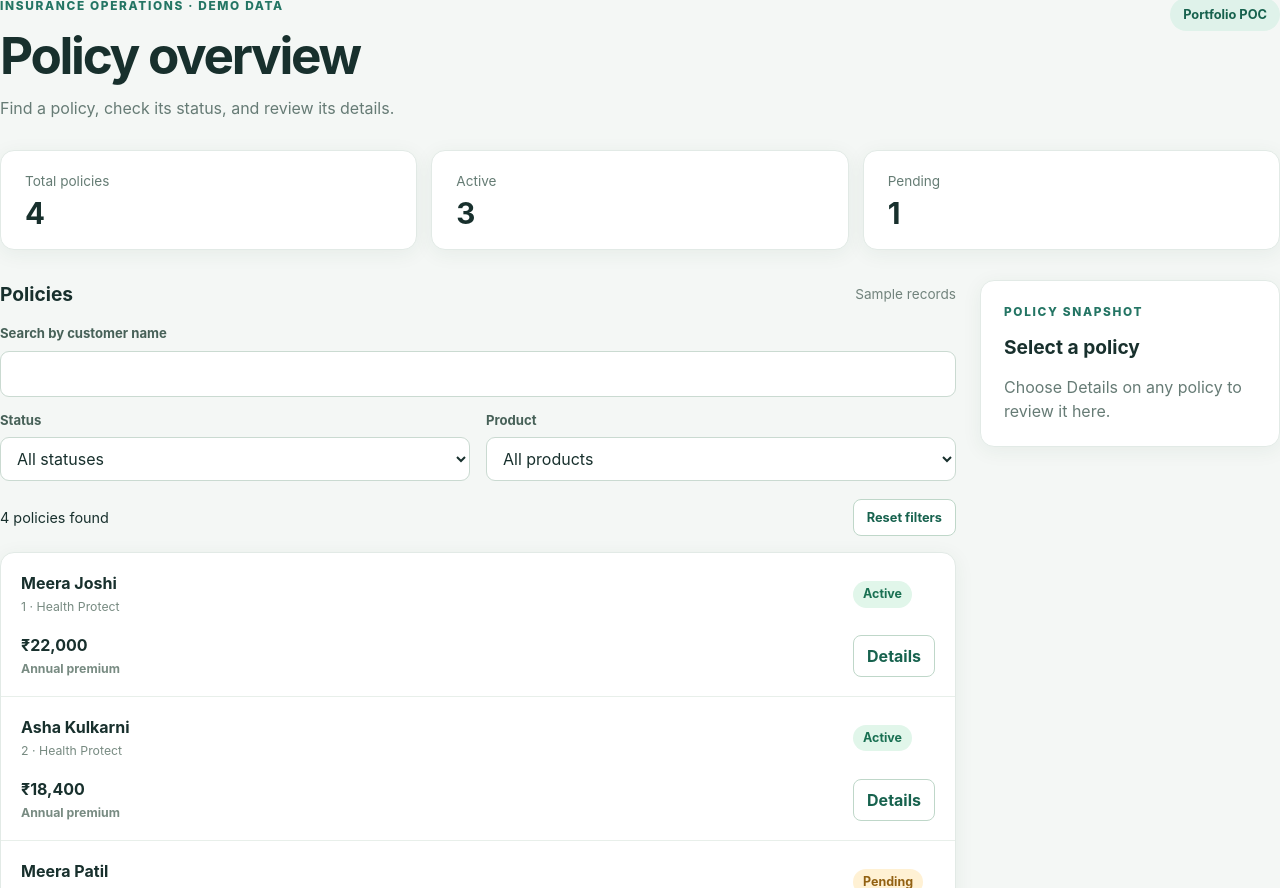
it: combines product, status and trimmed search; resets filters without changing portfolio totals
The width and height of the screenshot is (1280, 888).
Check: the text "Meera Joshi" is shown, box 21,573 -> 117,593
Select "Health Protect" in the dropdown labelled "Product" at (721, 459), box 486,437 -> 956,481
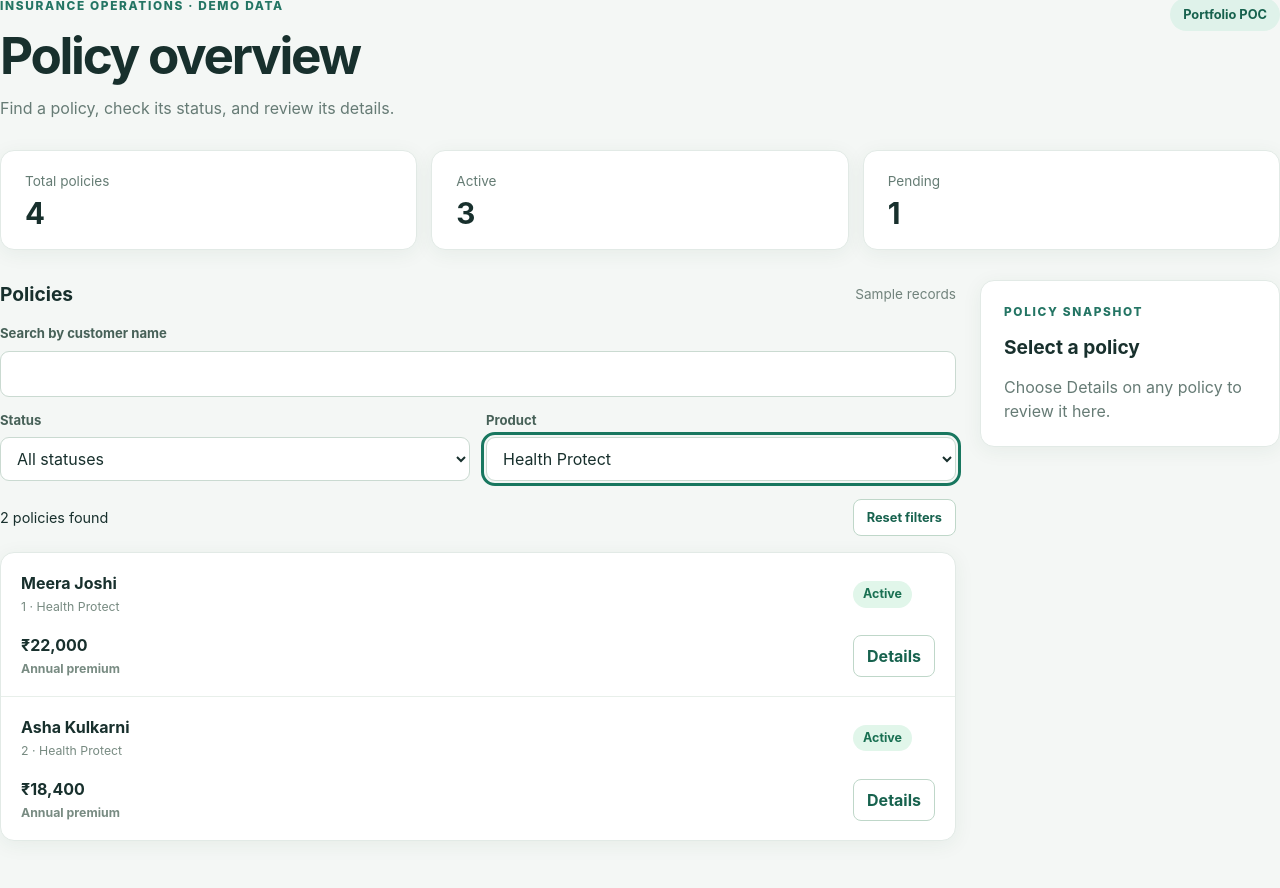
Select "Active" in the dropdown labelled "Status" at (235, 459), box 0,437 -> 470,481
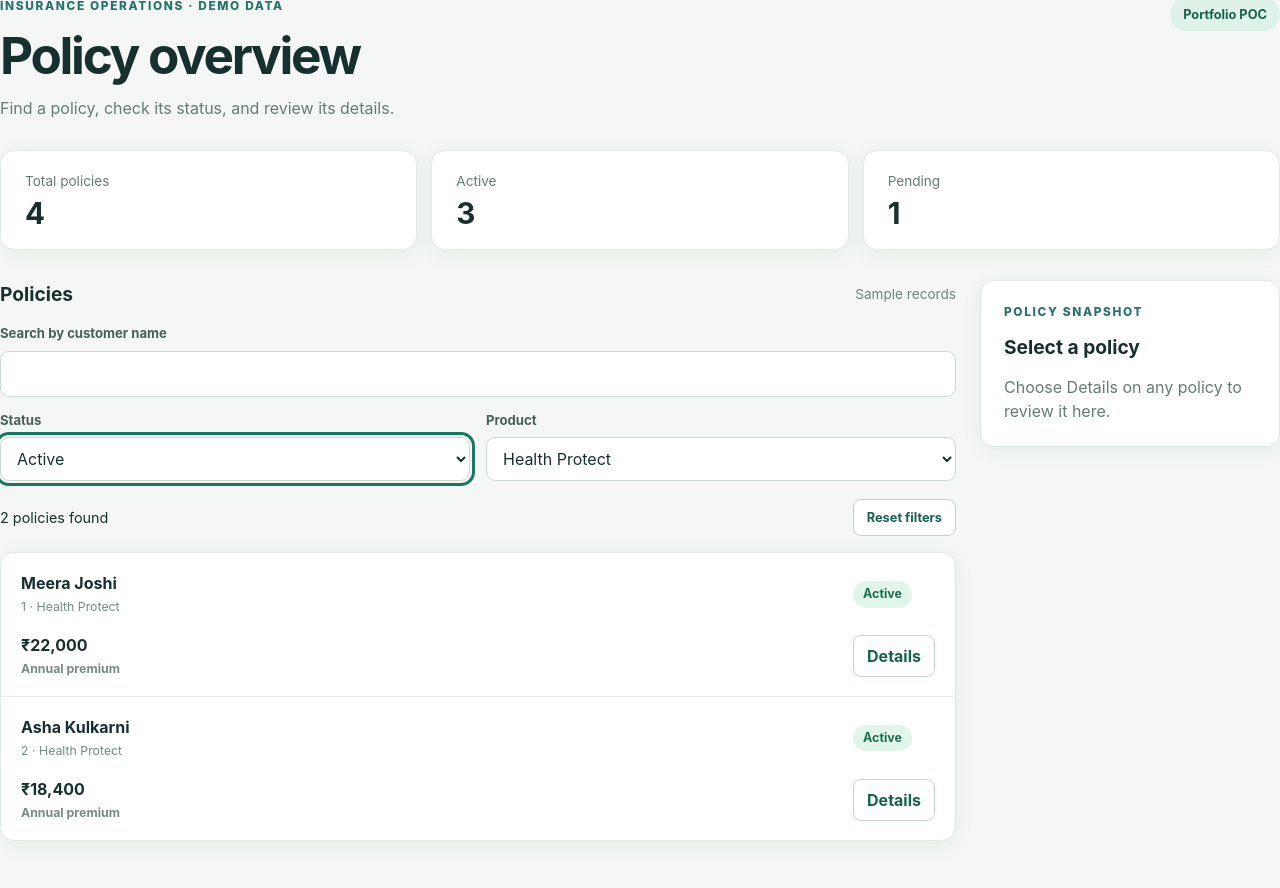
Type "  mEERA  " into the search field at (478, 374), box 0,350 -> 956,396
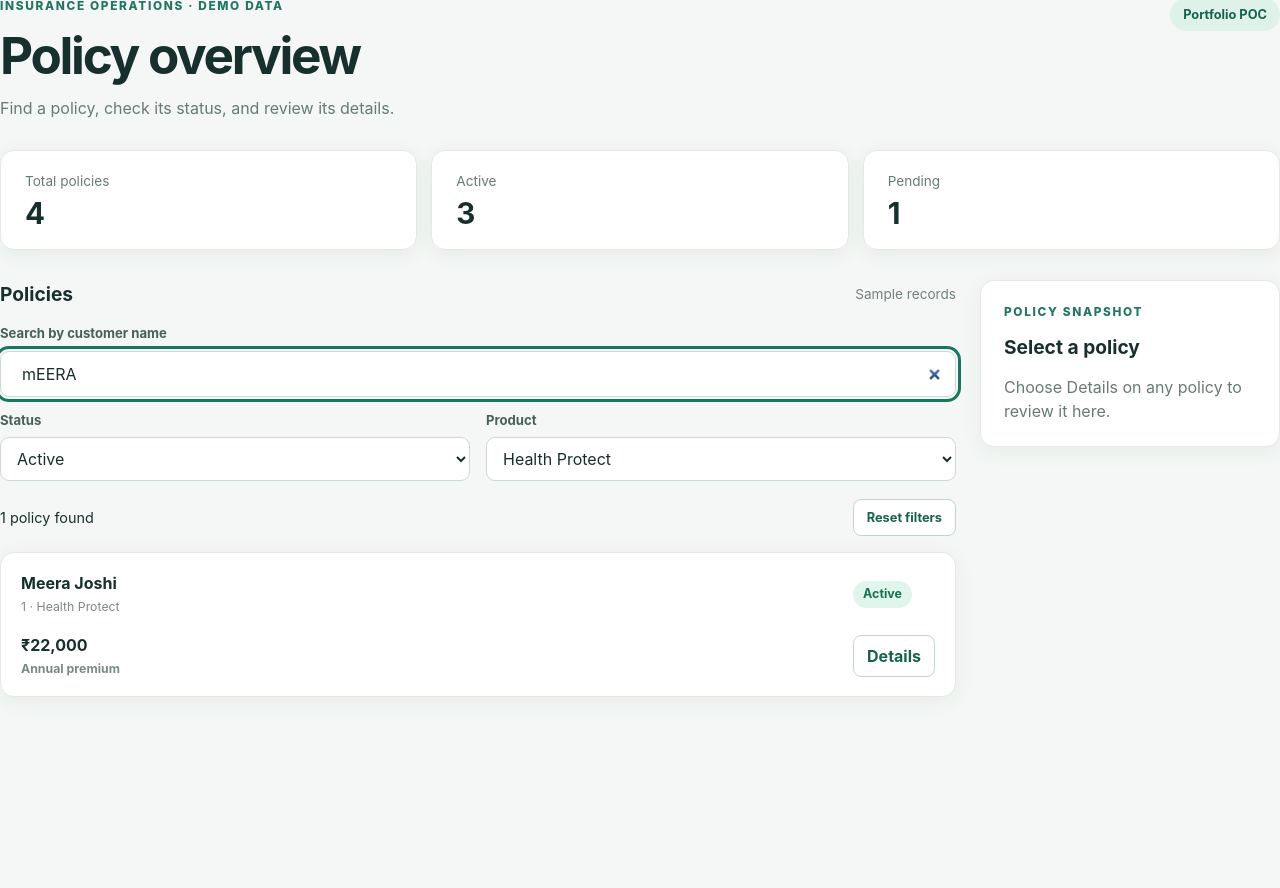
Check: the text "Meera Joshi" is shown, box 21,573 -> 117,593
Check: the message reads "1 policy found", box 0,507 -> 94,529
Click the button with aria-label "View details for Meera Joshi" at (894, 656), box 853,635 -> 935,677
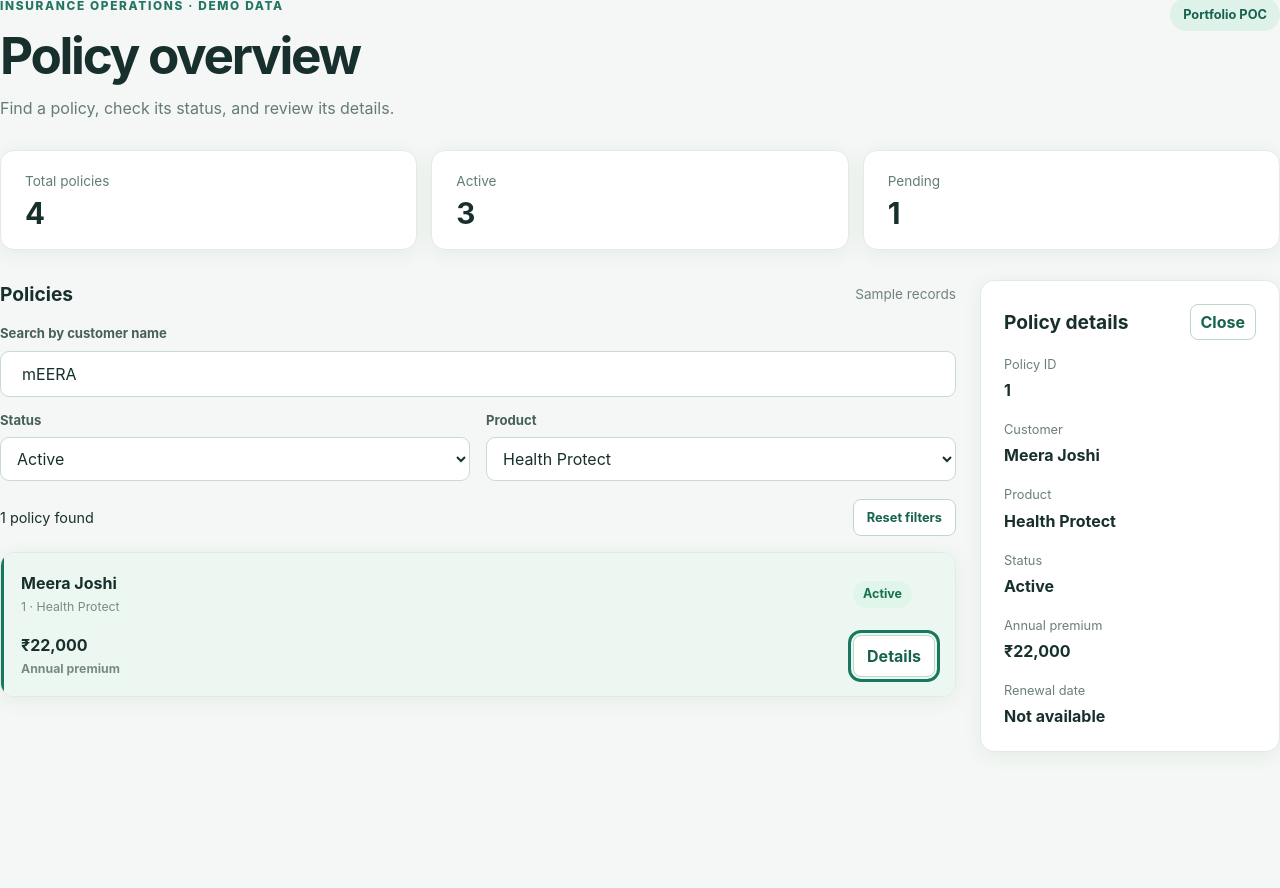
Select "Motor Comprehensive" in the dropdown labelled "Product" at (721, 459), box 486,437 -> 956,481
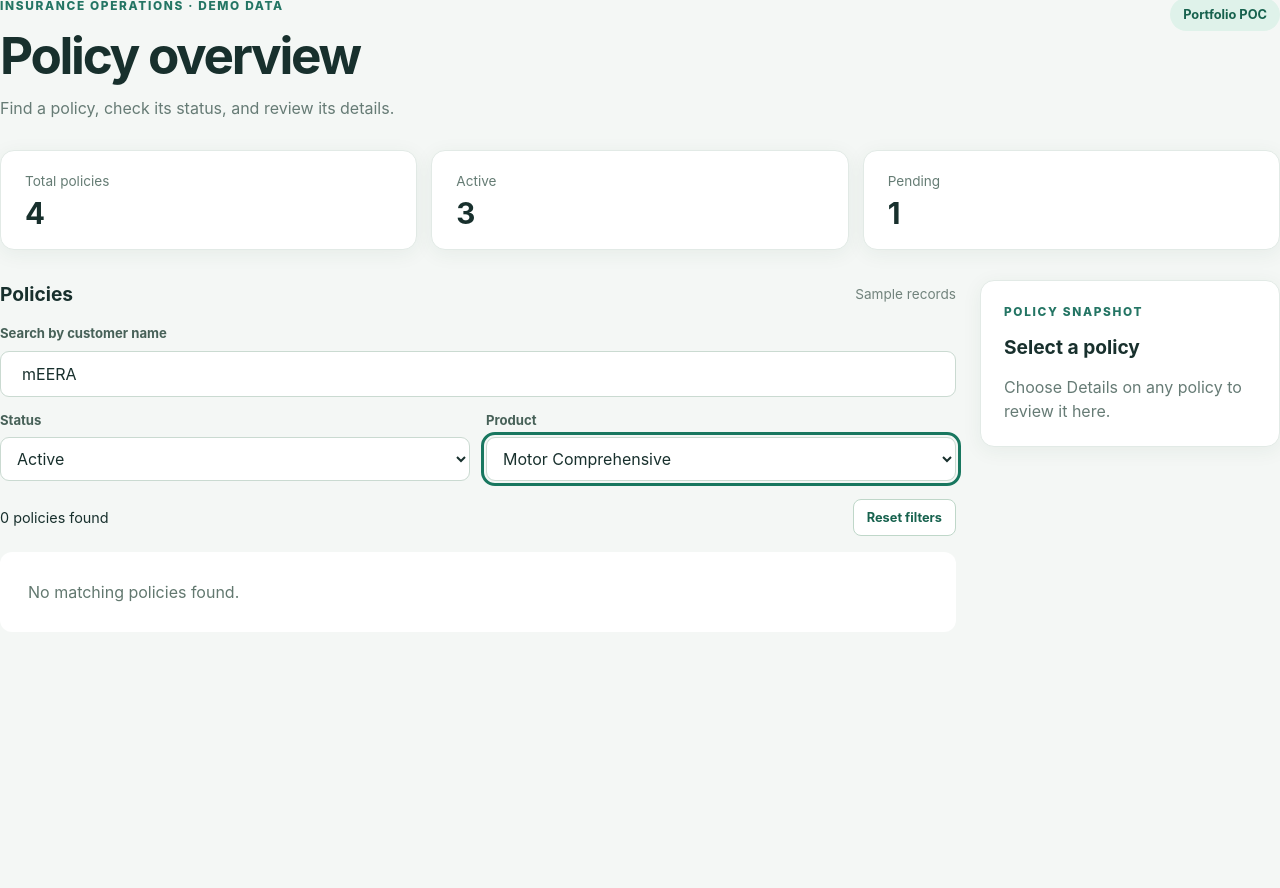
Check: the text "No matching policies found." is shown, box 0,552 -> 956,632
Check: the heading "Policy details" is gone
Click the button "Reset filters" at (904, 518), box 853,499 -> 956,536
(page scrolled)
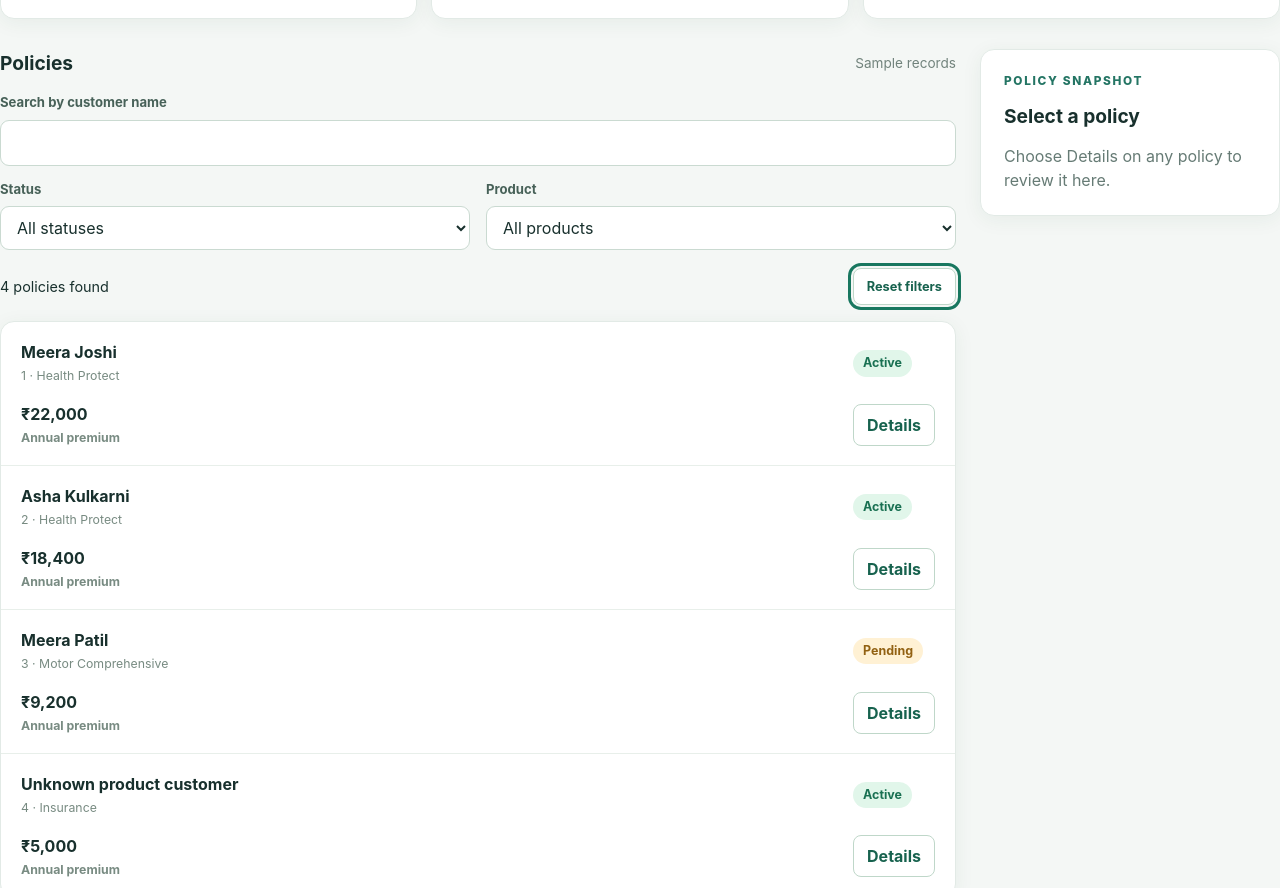
Check: the message reads "4 policies found", box 0,276 -> 109,298
Check: the search field is empty, box 0,120 -> 956,166
Check: the text "Unknown product customer" is shown, box 21,774 -> 238,794
